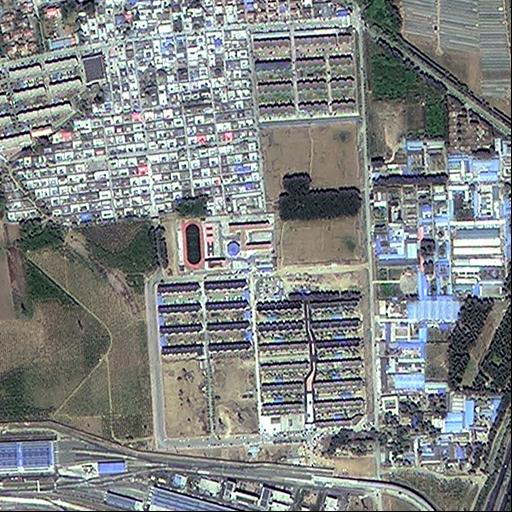school: (174, 212, 275, 276)
